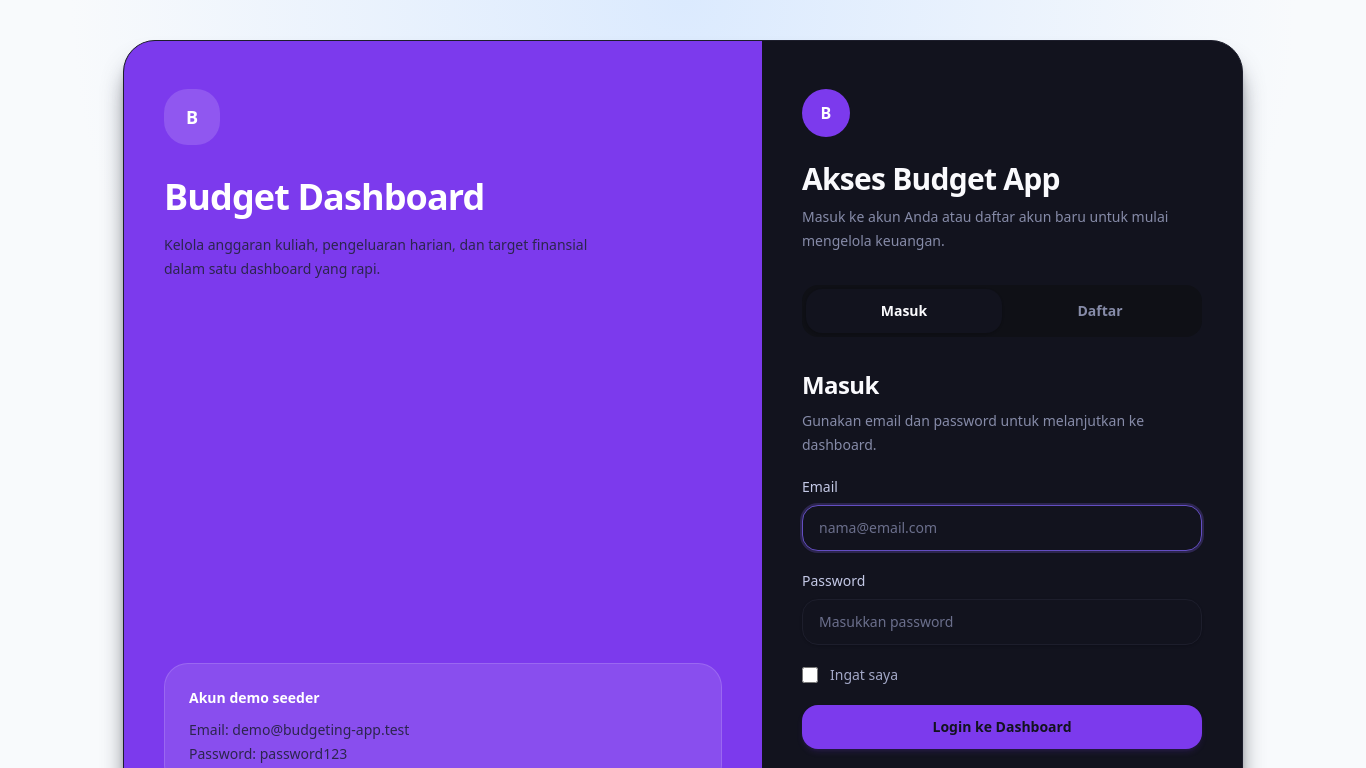
it: AuthPage › shows a confirmation error before registration submission
This screenshot has width=1366, height=768.
Click the button "Daftar": (1100, 311) [1002,289,1198,333]
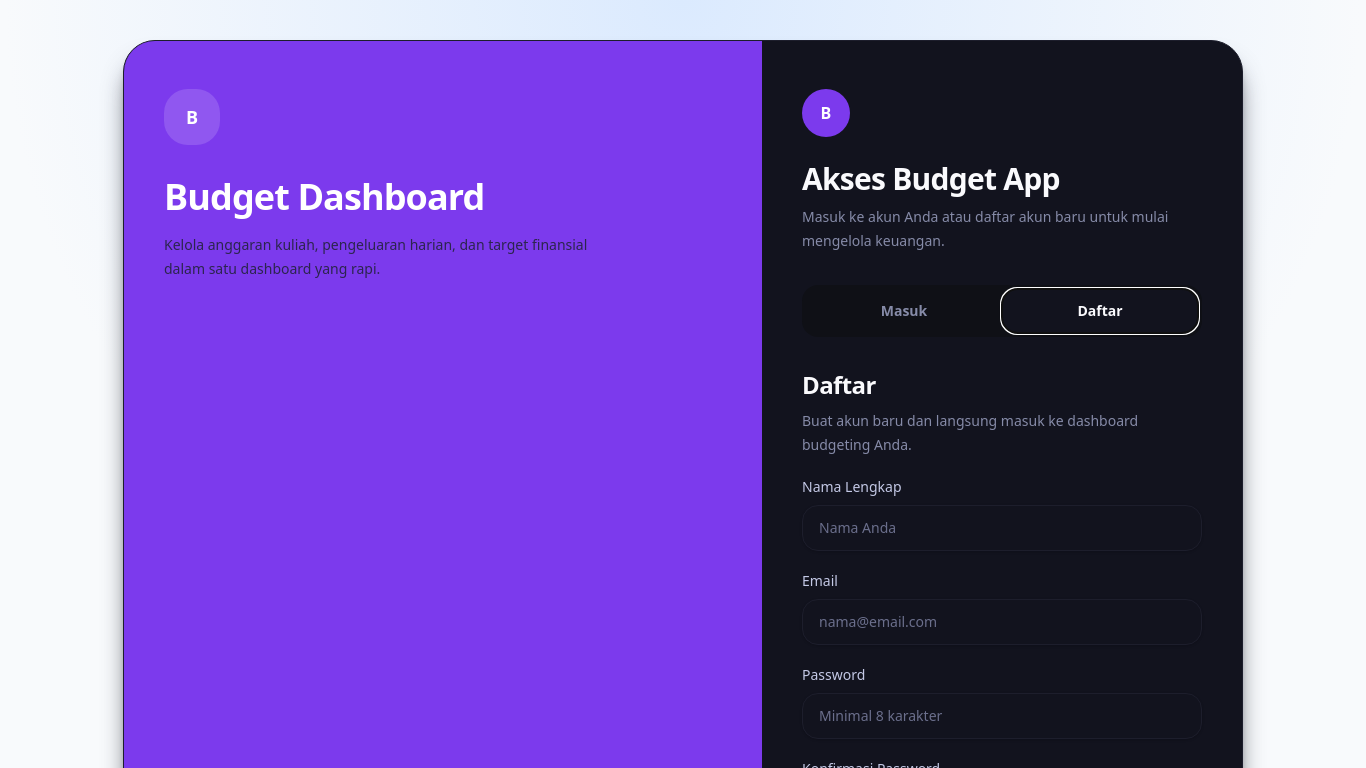
In the field labelled "Nama Lengkap": (1002, 528) [802,505,1202,551], type "Ibrahim"
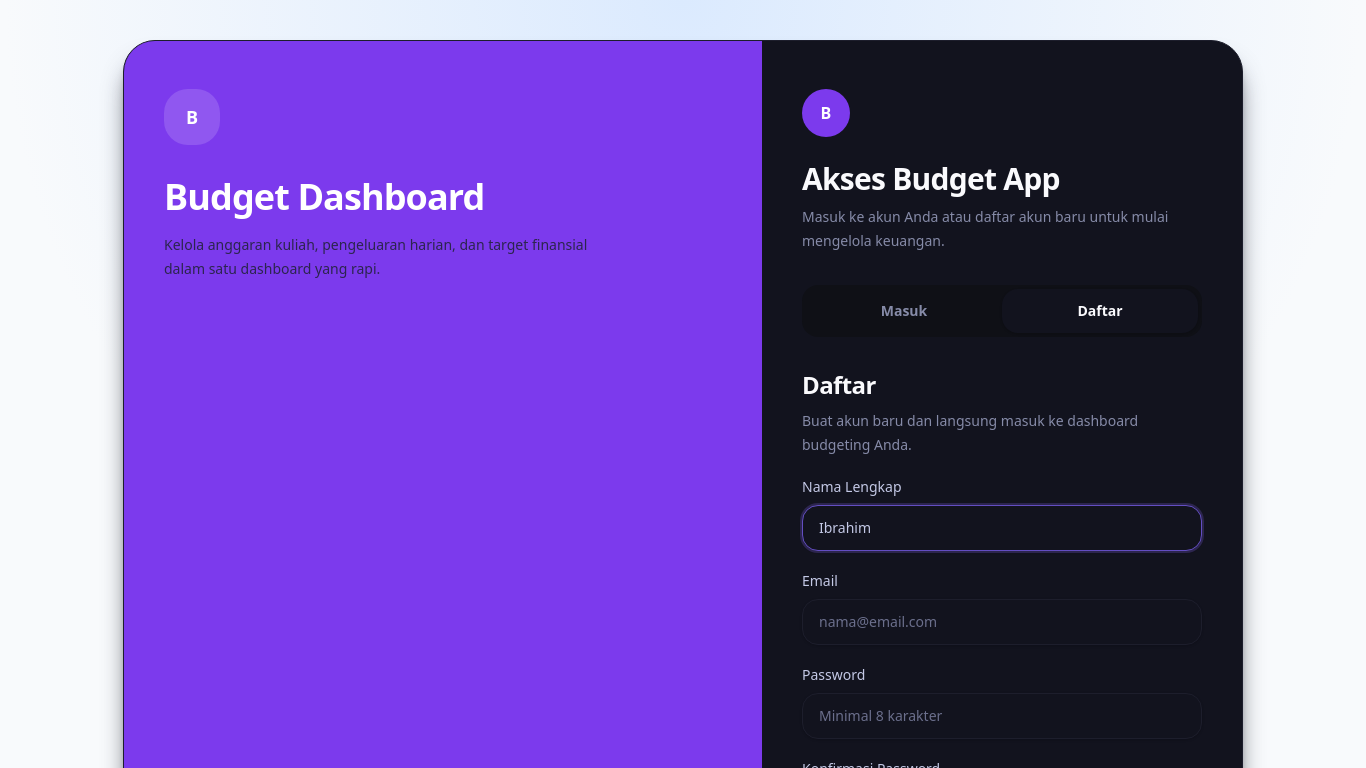
In the field labelled "Email": (1002, 622) [802,599,1202,645], type "new@example.com"
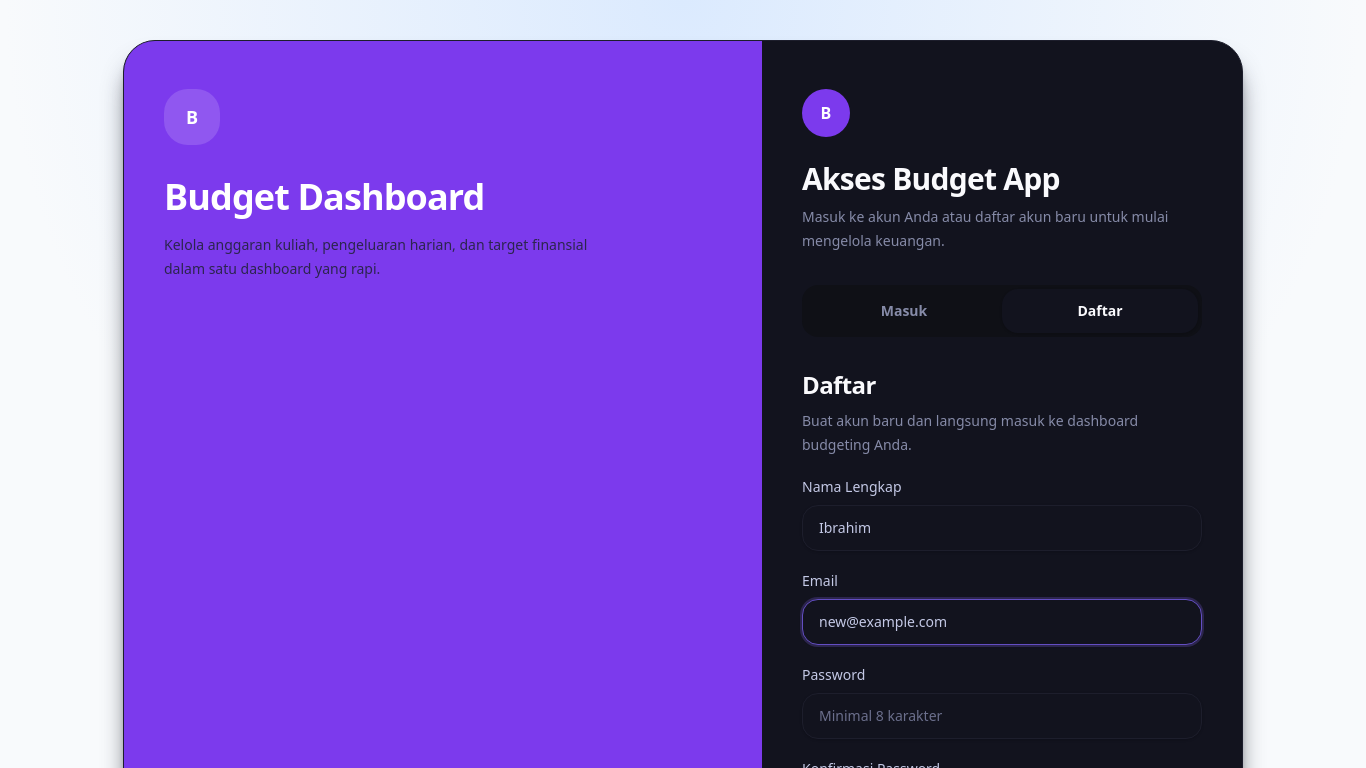
In the password field labelled "Password": (1002, 716) [802,693,1202,739], type "password123"
(page scrolled)
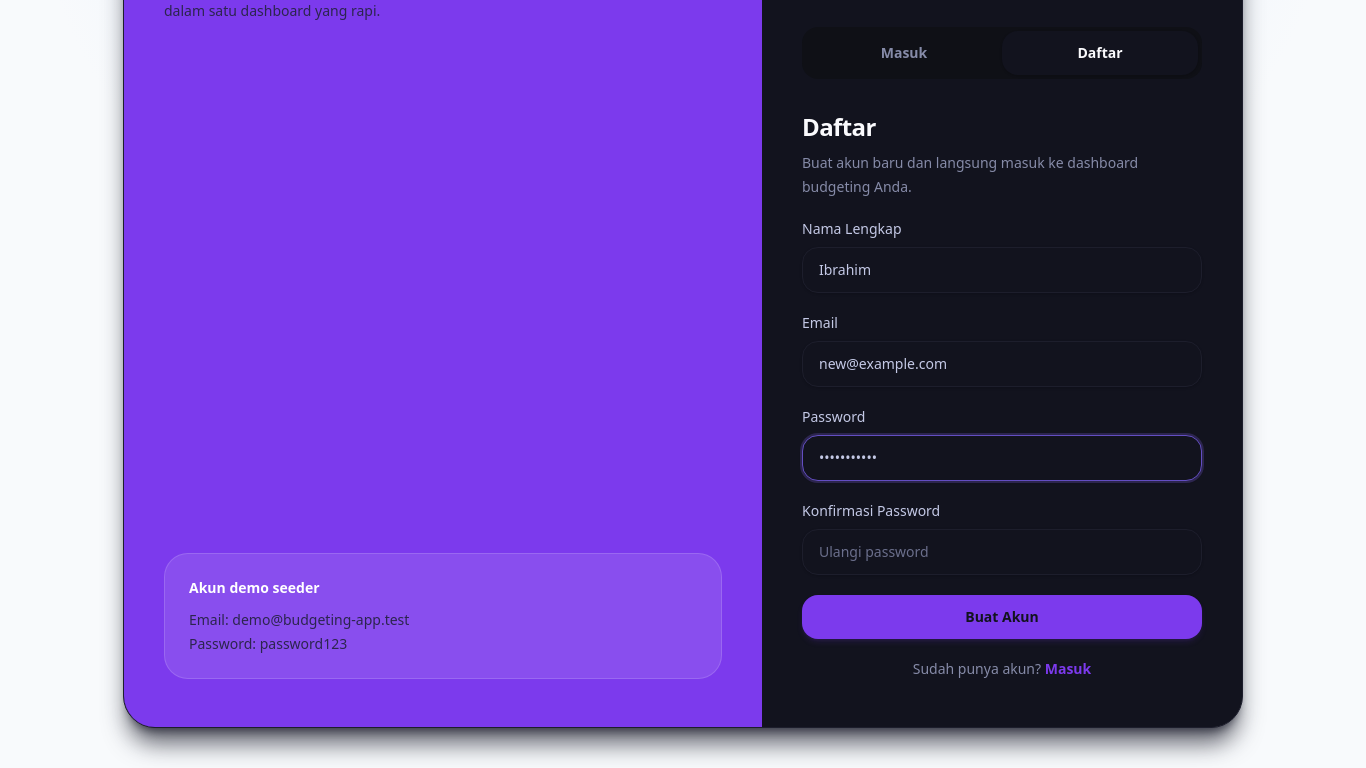
In the password field labelled "Konfirmasi Password": (1002, 552) [802,529,1202,575], type "different"
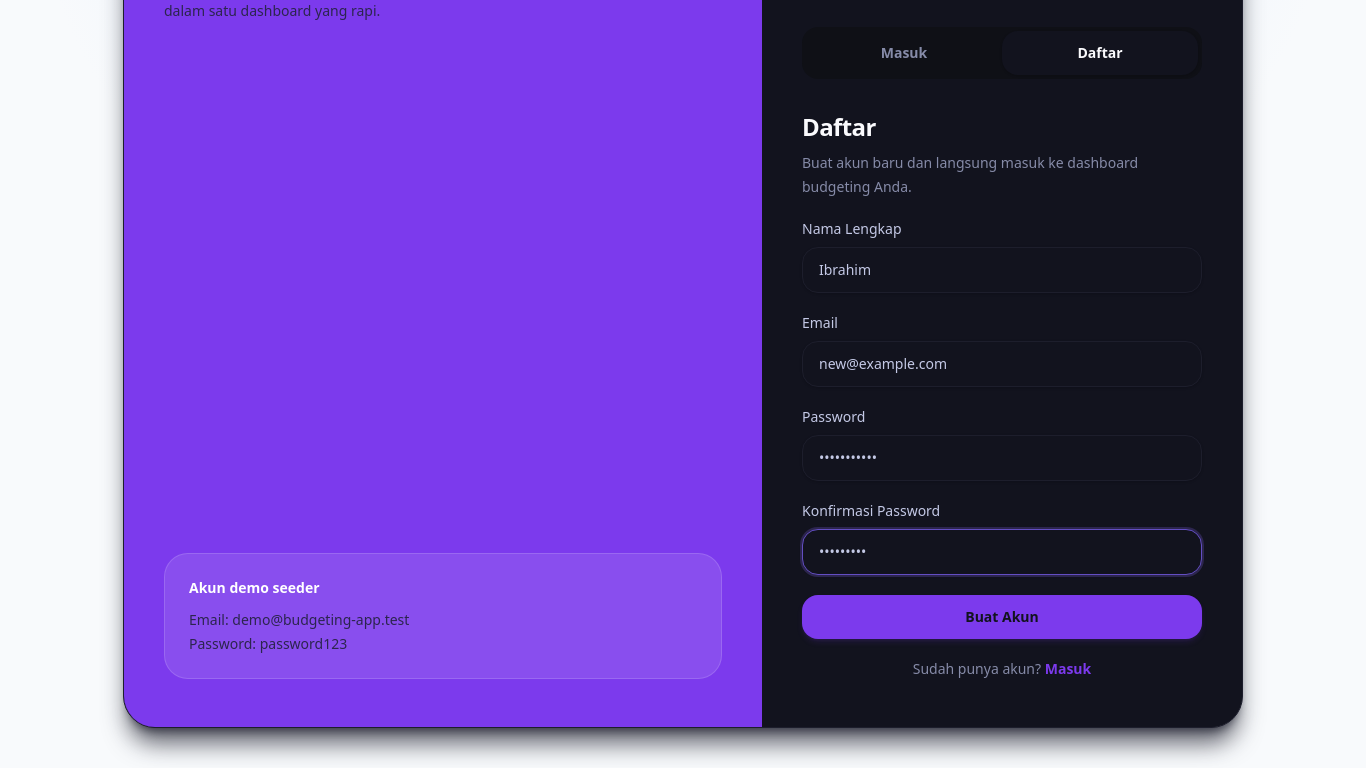
Click the button "Buat Akun": (1002, 617) [802,595,1202,639]
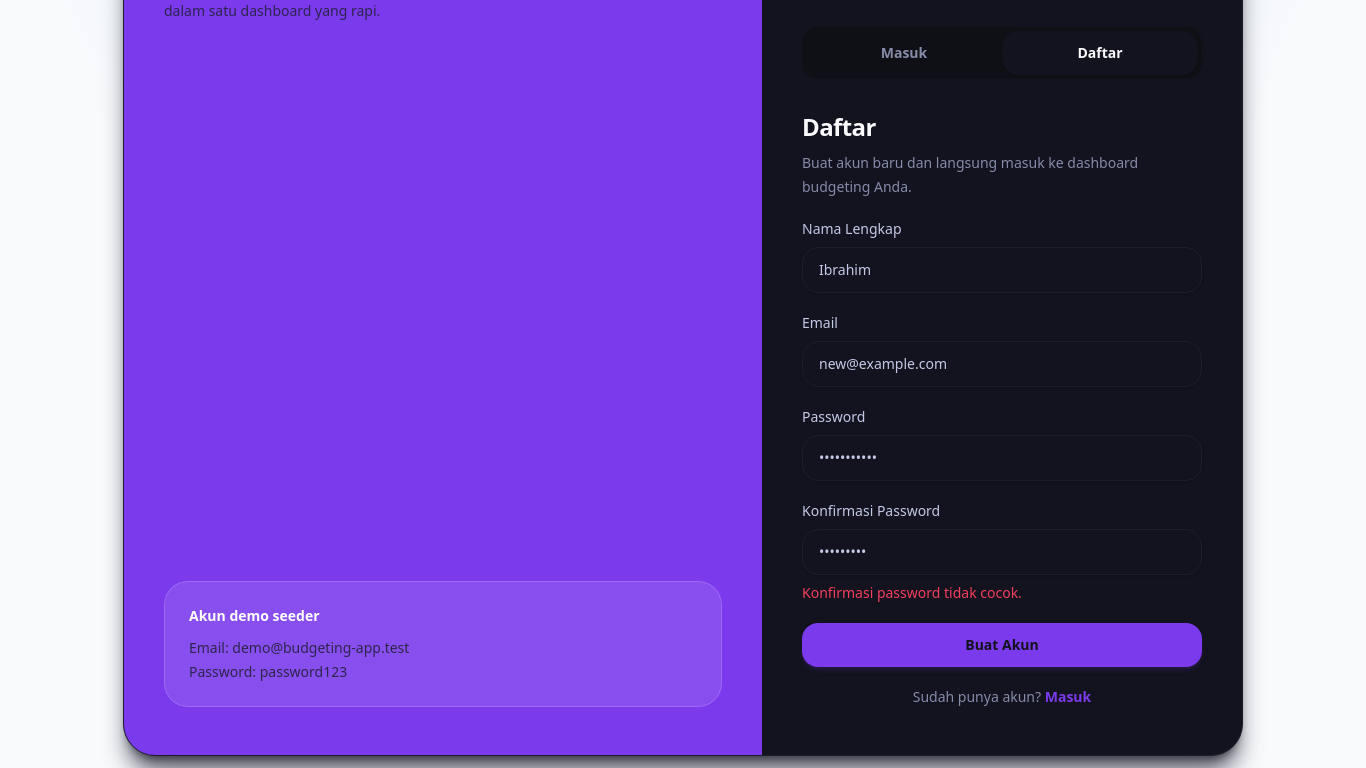
Now the text "Konfirmasi password tidak cocok." is shown, box [802,583,1022,602]
